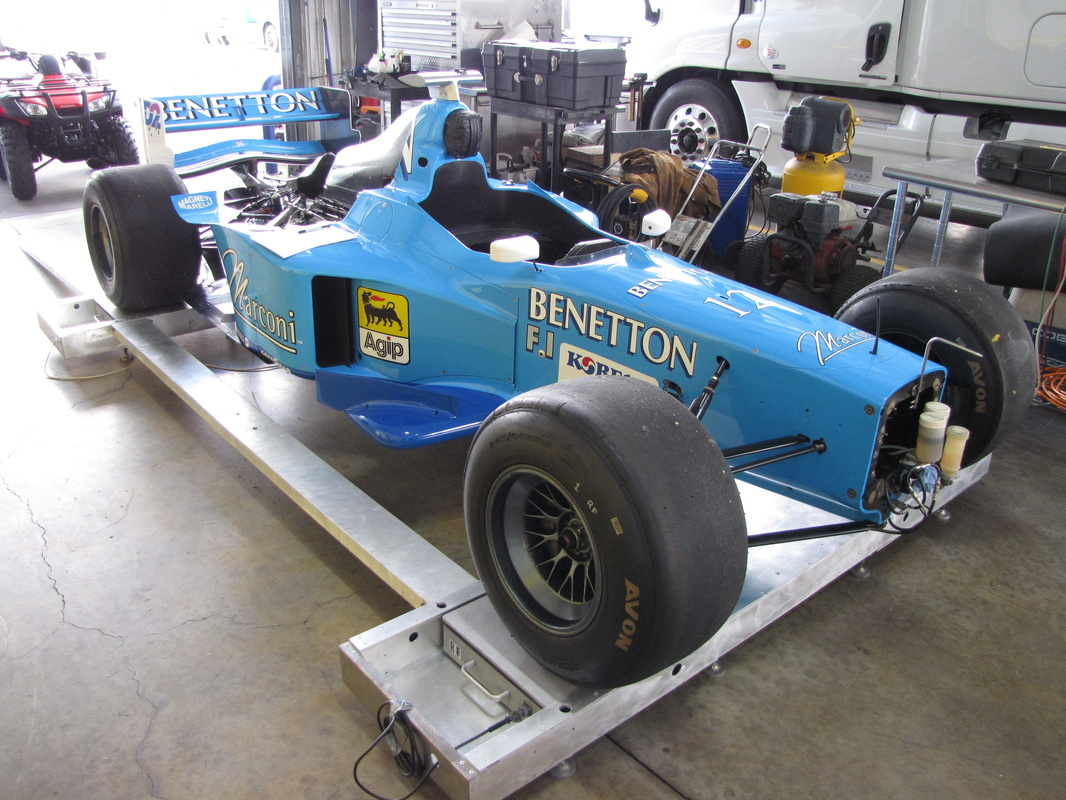f1_car: (68, 69, 1054, 699)
